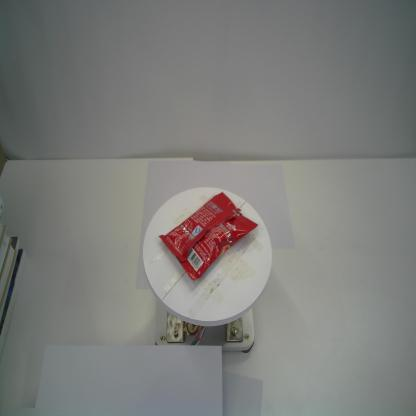Instant Drink: (157, 189, 259, 283)
